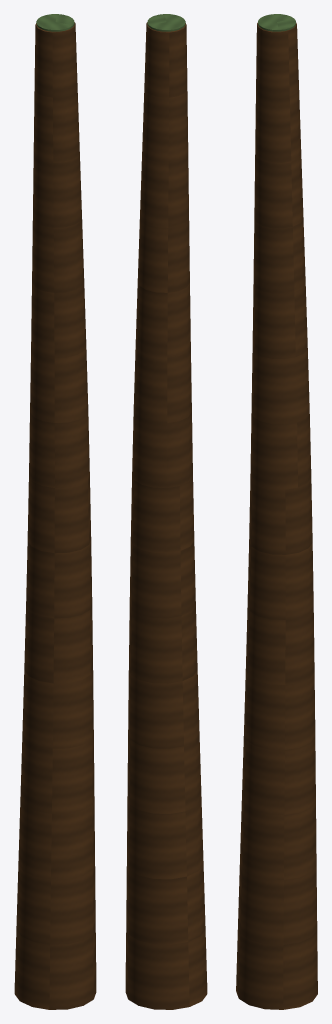
Rendered from underworld-flora-harvest-spirestalk-felled.glb.
3 renders of one model, left to right at view 1: azimuth 30°, elevation 25°; view 2: azimuth 150°, elevation 25°; view 3: azimuth 330°, elevation 25°, orthographic.
Parts seen in each view (by area): view 1: cut-stalk, cut-face; view 2: cut-stalk, cut-face; view 3: cut-stalk, cut-face.
Boxes of the visible parts, bbox=[...] form: cut-stalk: bbox=[14, 22, 96, 1009]; cut-face: bbox=[36, 14, 74, 31]; cut-stalk: bbox=[125, 22, 207, 1009]; cut-face: bbox=[147, 14, 185, 31]; cut-stalk: bbox=[236, 22, 317, 1009]; cut-face: bbox=[258, 14, 295, 31].
Bounding box in the file's own units: 0.9 × 11.73 × 0.8774.
2 materials, 2 textured.
